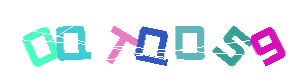5: (193, 0, 273, 80)
9: (214, 0, 294, 80)
D: (133, 0, 213, 80)
O: (17, 0, 97, 80)
Q: (94, 0, 174, 80), (112, 0, 192, 80)
T: (105, 0, 185, 80)
